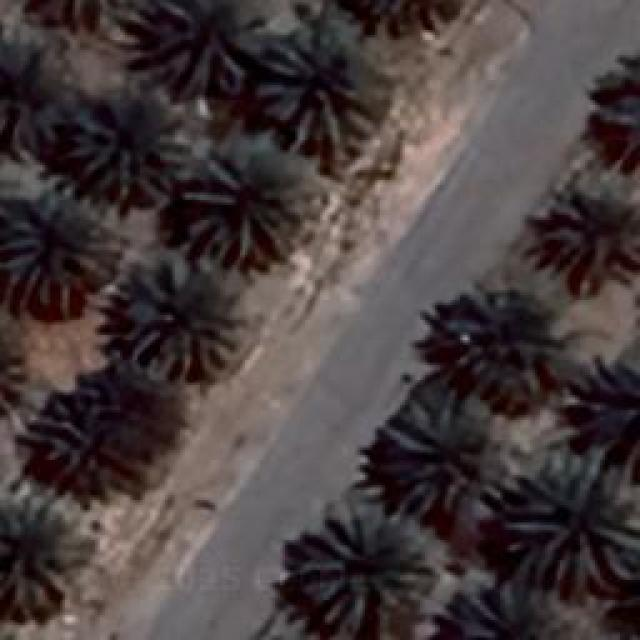PalmTree: (81, 13, 494, 614), (504, 450, 638, 590), (297, 507, 435, 635), (180, 137, 308, 270), (380, 387, 512, 515), (64, 80, 188, 205), (120, 255, 238, 383), (0, 185, 118, 310), (528, 167, 638, 295), (258, 30, 373, 150), (0, 492, 95, 618), (438, 298, 552, 402), (147, 0, 265, 95), (555, 352, 640, 462), (0, 38, 70, 148), (39, 398, 132, 480), (328, 0, 469, 47), (590, 58, 640, 170), (0, 310, 27, 436), (624, 525, 640, 640), (629, 529, 640, 640)
